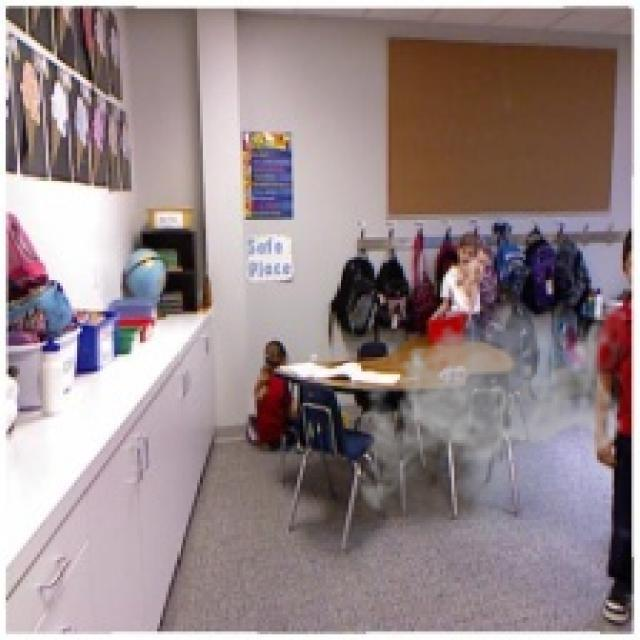Smoke: (348, 291, 626, 540)
